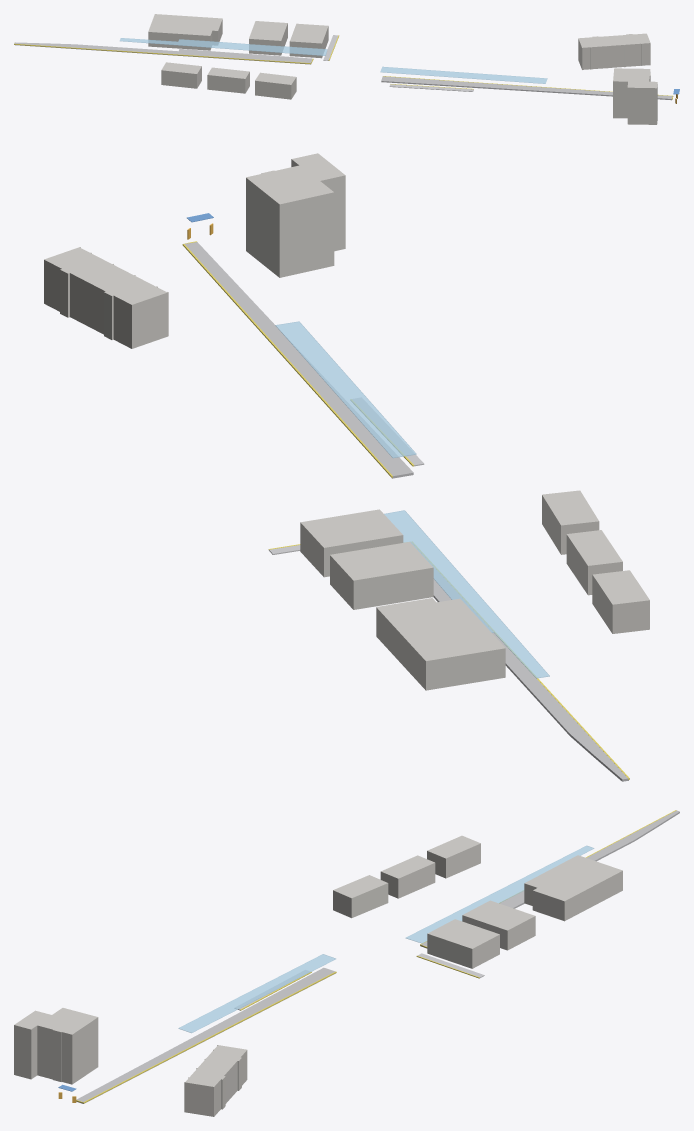
File: 8507096-papiermuehle.glb
3 views of the same model, one above another, from view 1: azimuth 30°, elevation 25°; view 2: azimuth 150°, elevation 25°; view 3: azimuth 270°, elevation 25° (orthographic). The views are drawn at different scales.
Parts seen in each view (by area): view 1: building_part@x, platform_surface@0, roof@0, boarding_edge@0, platform_body@0; view 2: building_part@x, roof@0, platform_surface@0, boarding_edge@0, platform_body@0; view 3: building_part@x, platform_surface@0, roof@0, boarding_edge@0, platform_body@0.
Part boxes in pixels (left/top/right/bottom): building_part@x: left=148, top=14, right=657, bottom=124; platform_surface@0: left=14, top=42, right=672, bottom=100; roof@0: left=119, top=38, right=547, bottom=83; boarding_edge@0: left=14, top=35, right=673, bottom=99; platform_body@0: left=323, top=35, right=473, bottom=91; building_part@x: left=44, top=153, right=649, bottom=690; roof@0: left=275, top=321, right=549, bottom=678; platform_surface@0: left=184, top=242, right=628, bottom=781; boarding_edge@0: left=182, top=241, right=629, bottom=779; platform_body@0: left=269, top=397, right=424, bottom=554; building_part@x: left=14, top=835, right=622, bottom=1116; platform_surface@0: left=76, top=810, right=679, bottom=1103; roof@0: left=178, top=845, right=594, bottom=1033; boarding_edge@0: left=76, top=810, right=676, bottom=1103; platform_body@0: left=235, top=953, right=484, bottom=1010.
Bounding box in the file's own units: 231 × 18.15 × 211.
